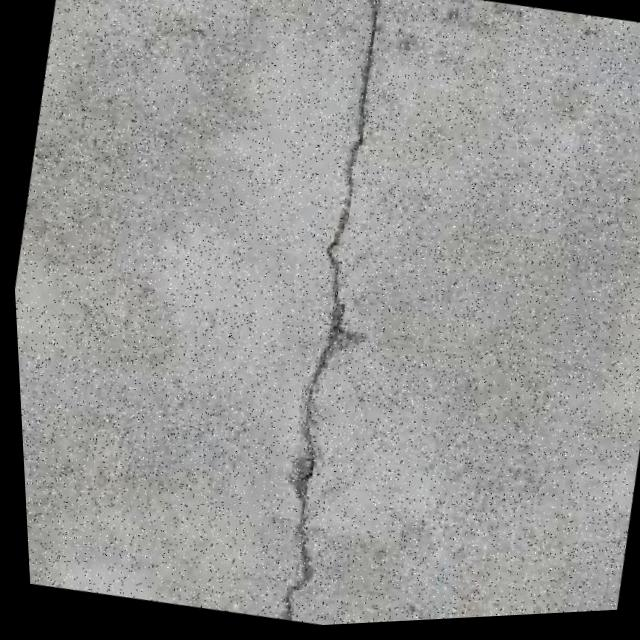Crack: (220, 0, 445, 631)
